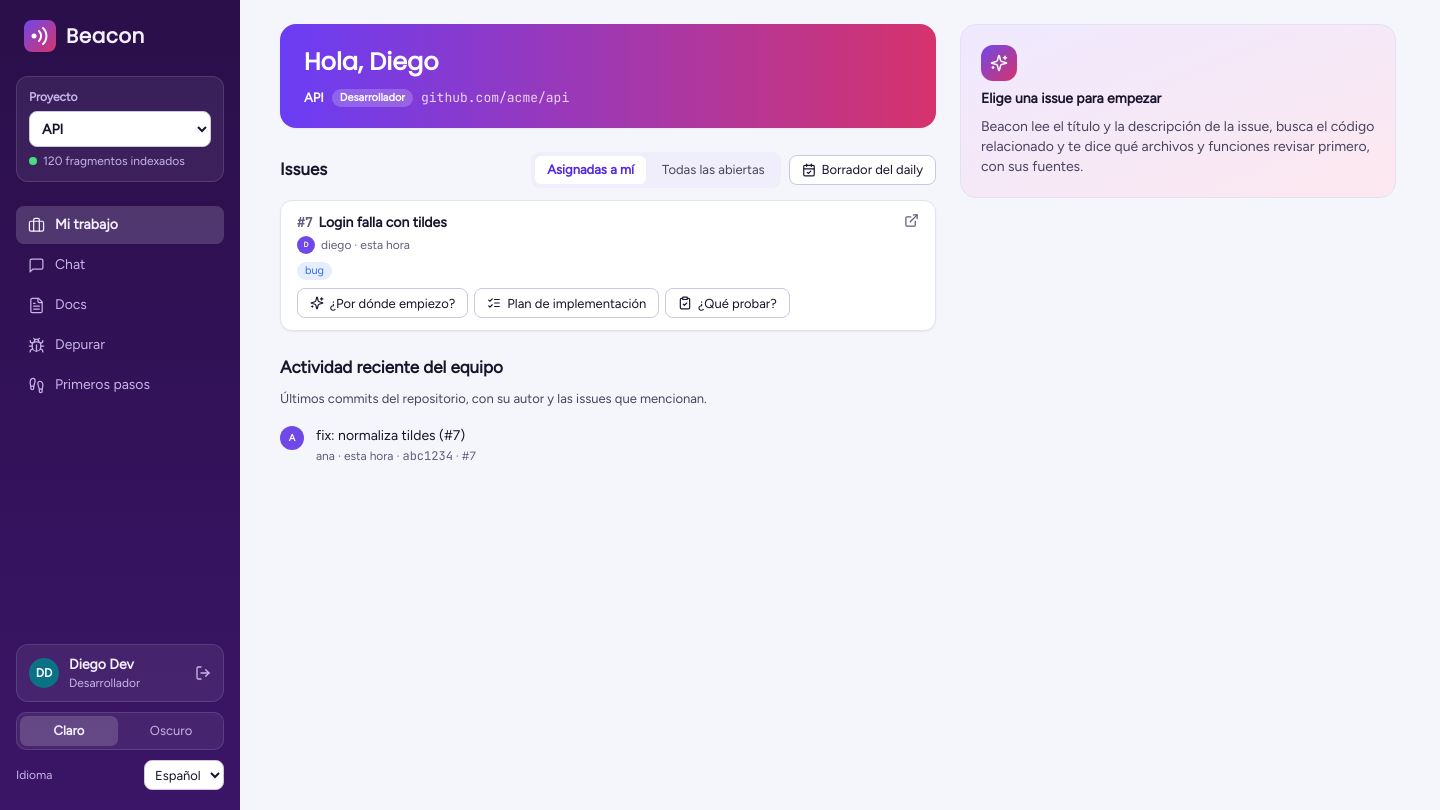
Test: modo equipo › comenta la respuesta en la issue y muestra quién conoce los archivos
This screenshot has width=1440, height=810.
Click the button "¿Por dónde empiezo?" at coordinates (383, 303), box 297,288 -> 468,318
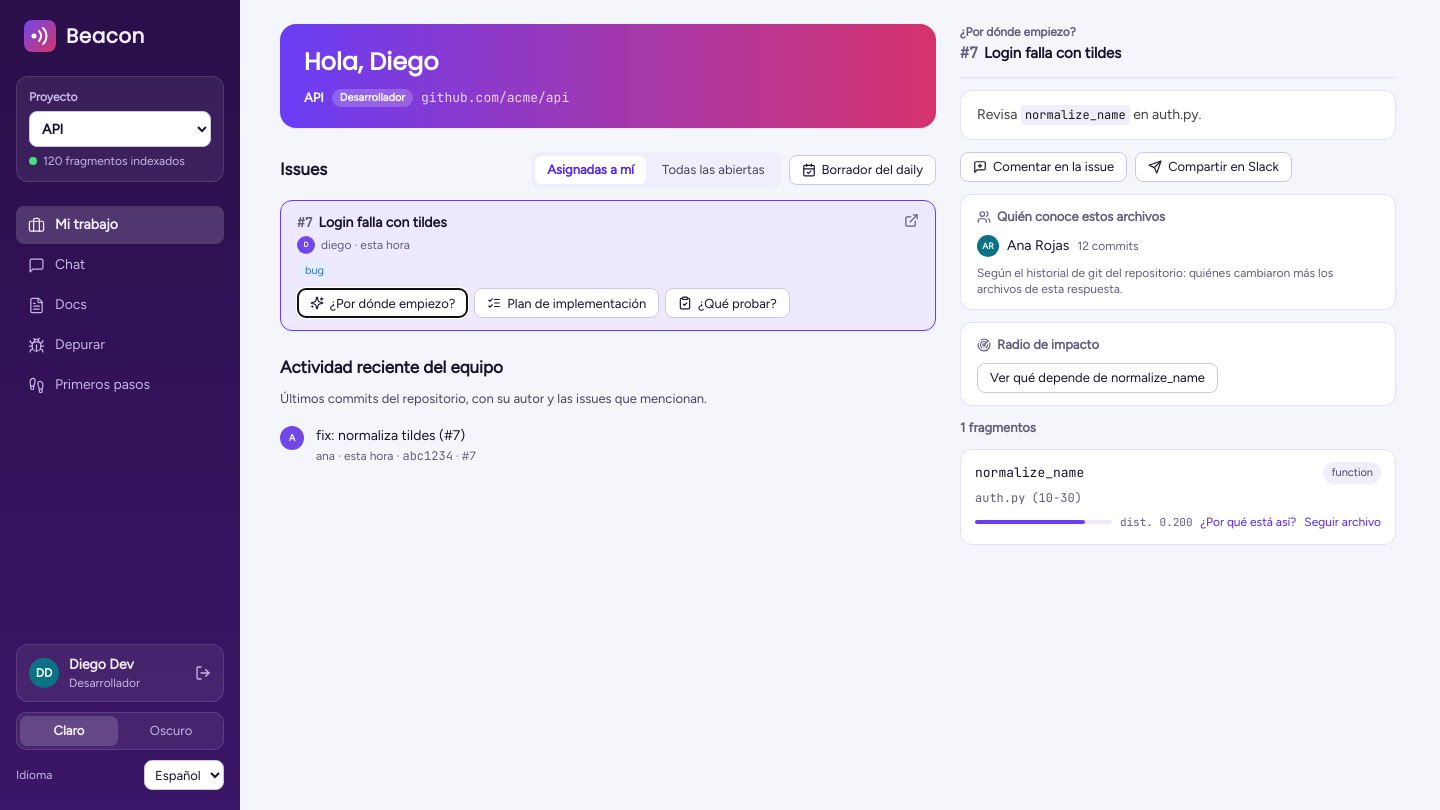
Now the text "Ana Rojas" is shown, box 1007,236 -> 1069,256
Now the button "Compartir en Slack" is shown, box 1135,152 -> 1292,182
Click the button "Comentar en la issue" at coordinates (1044, 166), box 960,152 -> 1127,182
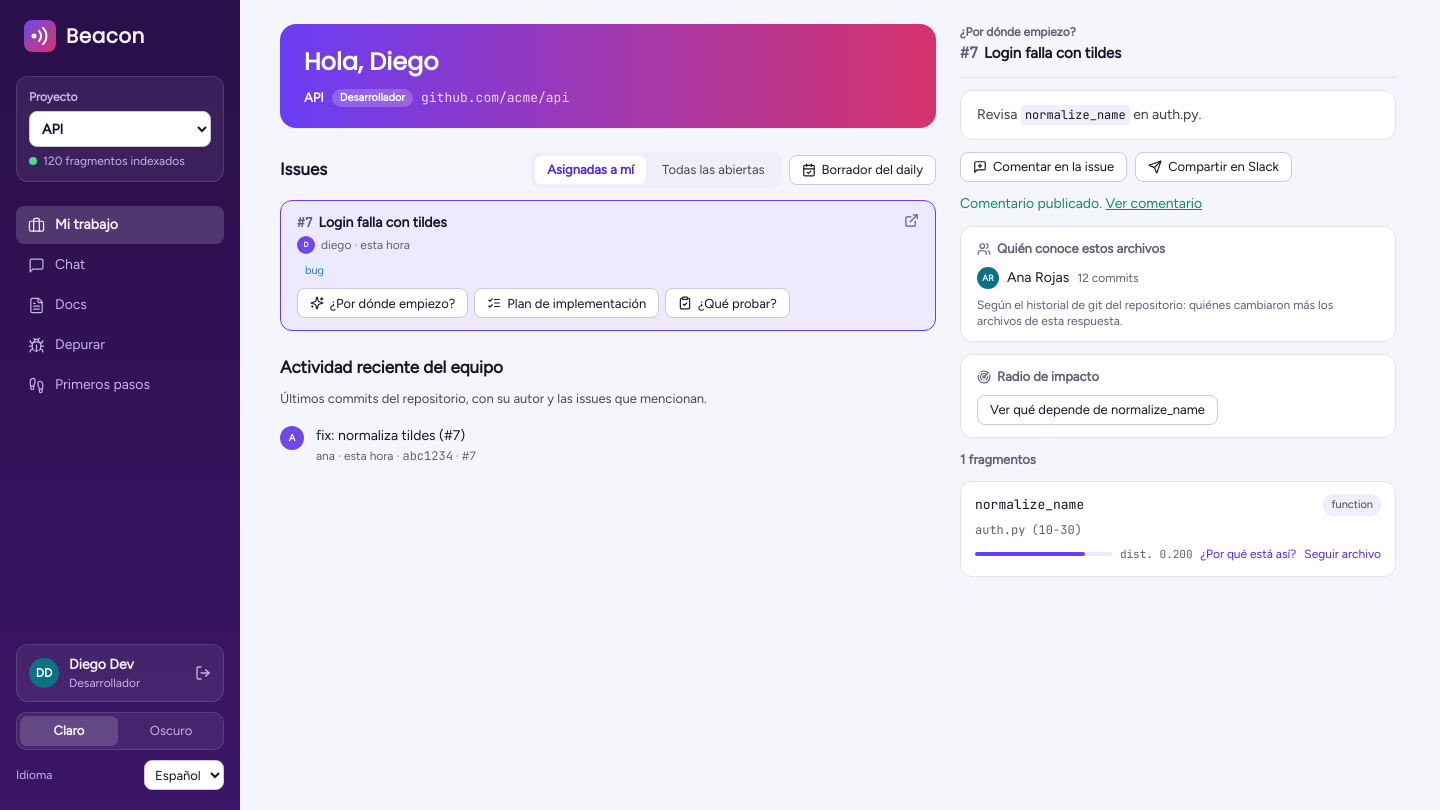
Now the text "Comentario publicado." is shown, box 960,194 -> 1102,212
